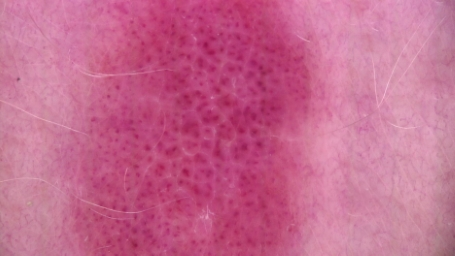nevus: (79, 3, 310, 256)
